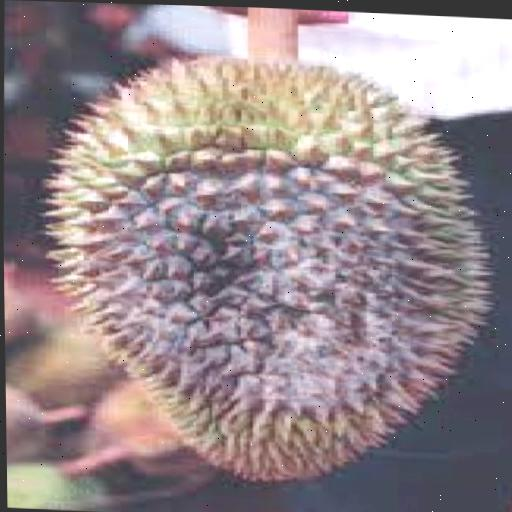rot: (39, 1, 512, 512)
